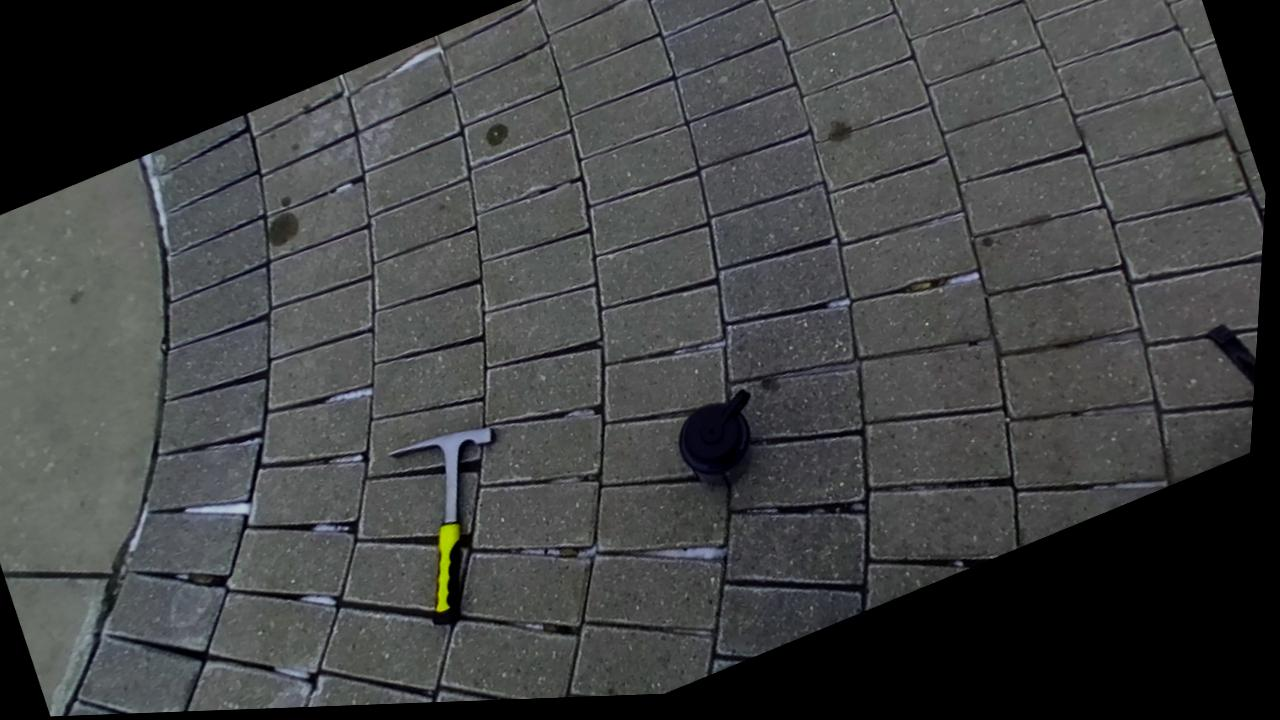bottle: (678, 390, 749, 484)
pick: (389, 428, 491, 624)
